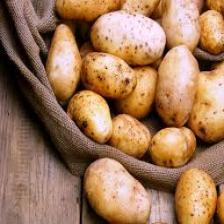Diseased-fungal potato: (89, 10, 166, 66), (156, 44, 204, 130), (45, 14, 84, 102), (66, 86, 114, 146), (79, 50, 140, 96), (176, 164, 218, 224), (104, 112, 153, 160), (148, 126, 198, 169)
Potato: (81, 157, 154, 224), (159, 0, 202, 50)
